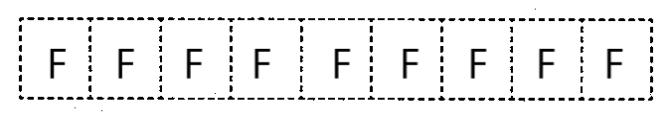F: (395, 43, 425, 85), (42, 42, 70, 86), (111, 44, 141, 84), (249, 43, 278, 82), (179, 44, 208, 82), (466, 43, 494, 82), (599, 43, 627, 82), (328, 44, 355, 83), (533, 42, 560, 81)
